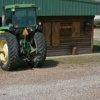Tractor: (2, 3, 54, 71)
